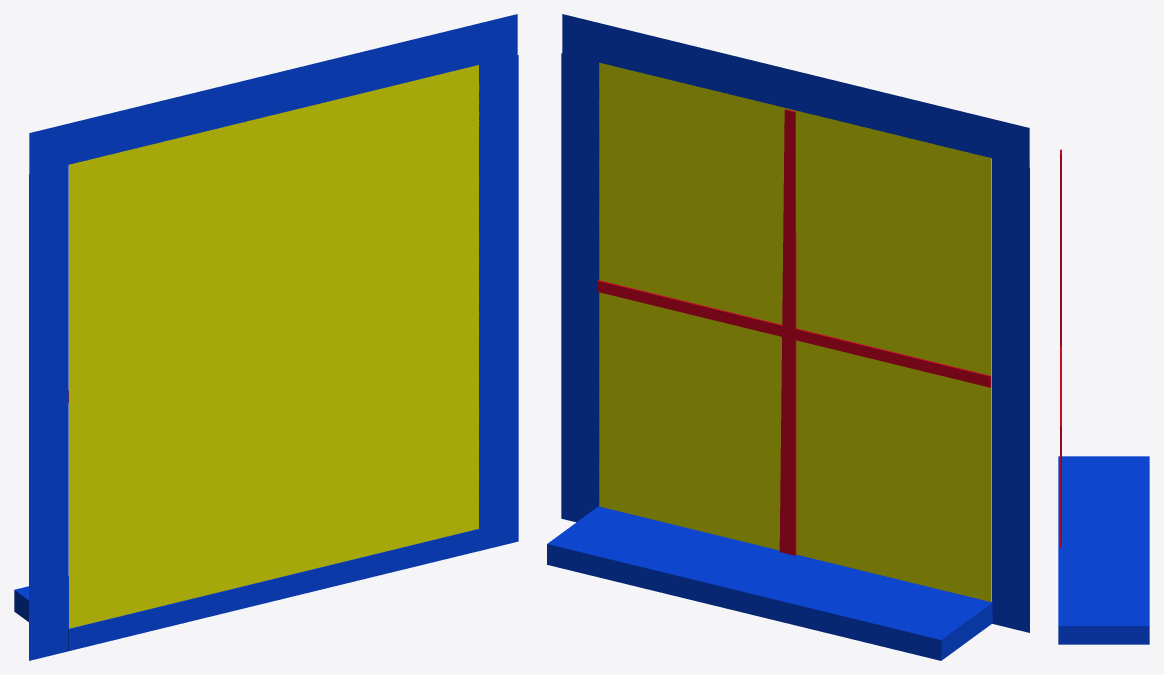
File: Window.fbx
3 renders of one model, left to right at view 1: azimuth 30°, elevation 25°; view 2: azimuth 150°, elevation 25°; view 3: azimuth 270°, elevation 25°, orthographic. The views are drawn at different scales.
Visible parts, largest first — view 1: Window; view 2: Window; view 3: Window.
Boxes of the visible parts, bbox=[...] form: Window: bbox=[14, 14, 518, 660]; Window: bbox=[547, 14, 1029, 660]; Window: bbox=[1058, 149, 1149, 644].
Bounding box in the file's own units: 625 × 643 × 120.
